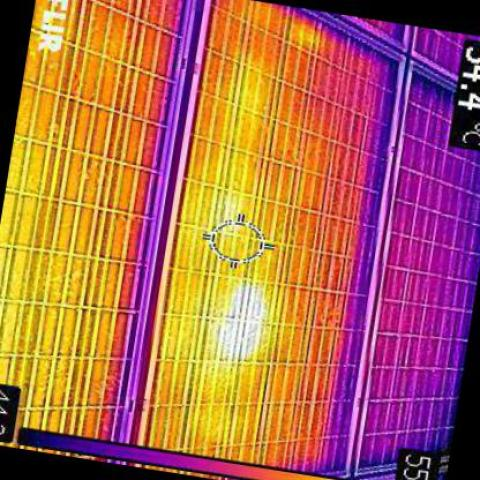fault: (215, 282, 271, 350)
